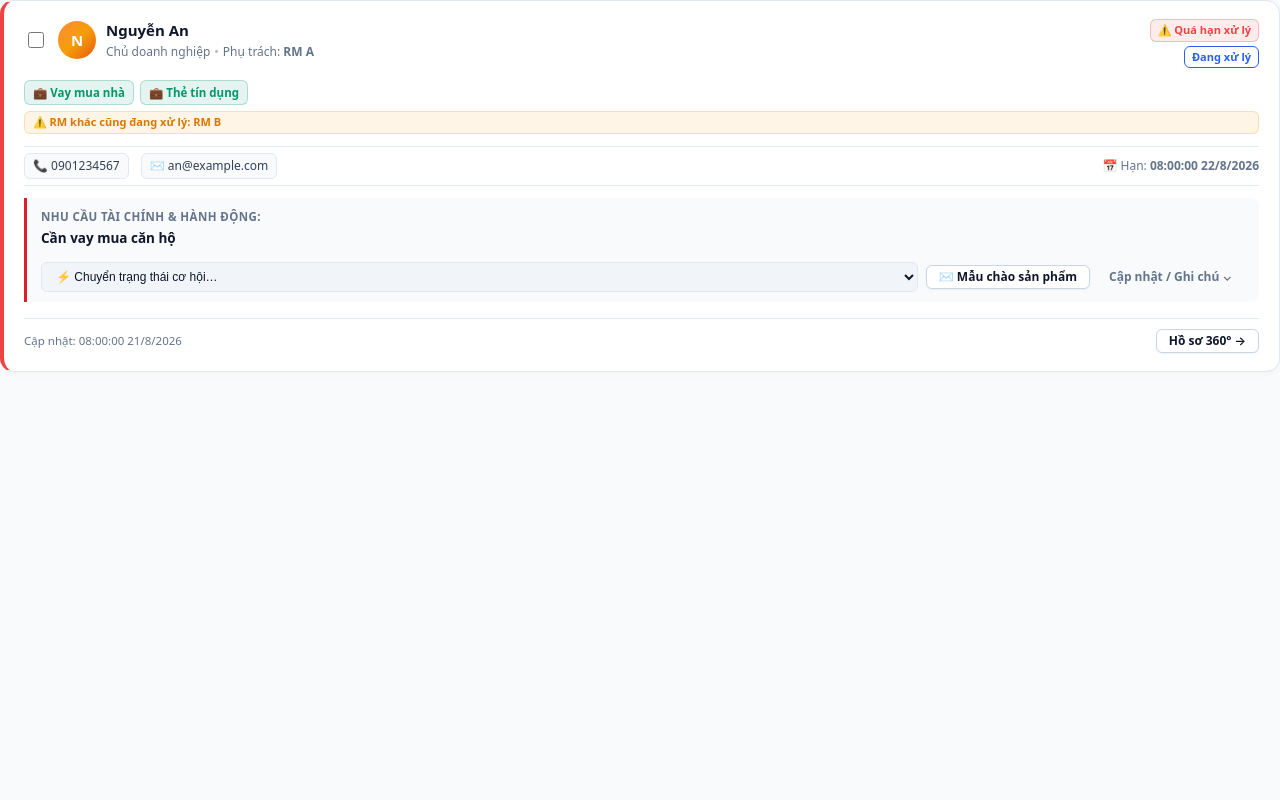
Test case: Customer task card › gom nhu cầu và giấu trường CRM cho tới khi RM chọn cập nhật
Check: the text "💼 Vay mua nhà" is shown, box [24, 80, 134, 105]
Check: the text "💼 Thẻ tín dụng" is shown, box [140, 80, 248, 105]
Click the button "Cập nhật / Ghi chú ⌄" at (1170, 277), box [1096, 265, 1245, 289]
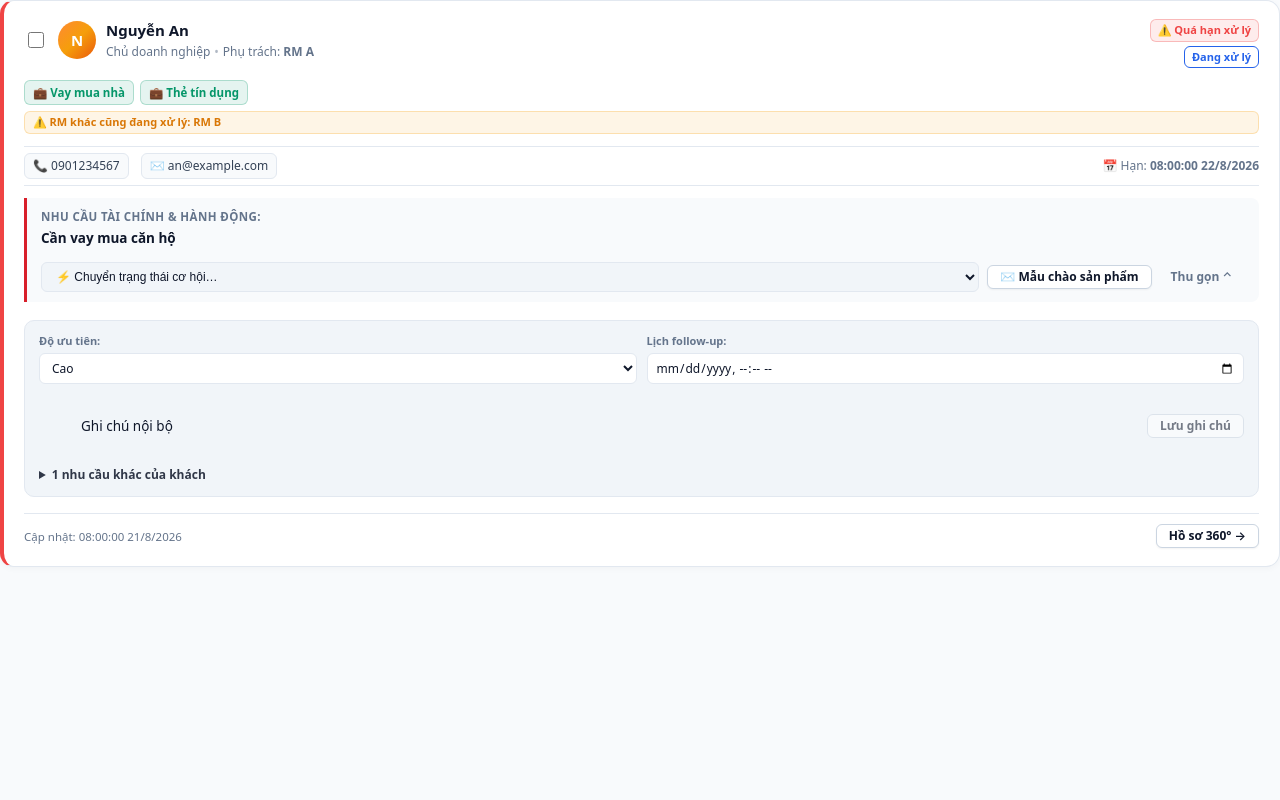
Check: the 2nd field with placeholder "Ghi chú tiến độ tiếp cận khách hàng..." is shown, box [39, 404, 1139, 448]
Check: the heading "1 nhu cầu khác của khách" is shown, box [52, 466, 206, 483]
